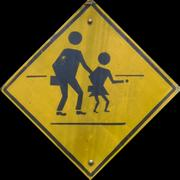School Ahead: (34, 19, 154, 153)
